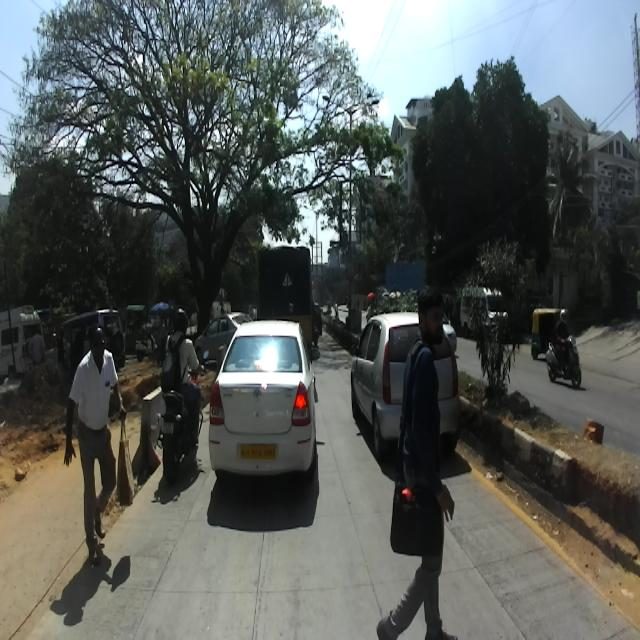car ahead at: (208, 314, 318, 499)
motorcycle ahead at: (154, 383, 203, 484)
person ahead at: (384, 299, 458, 640), (66, 314, 140, 578)
